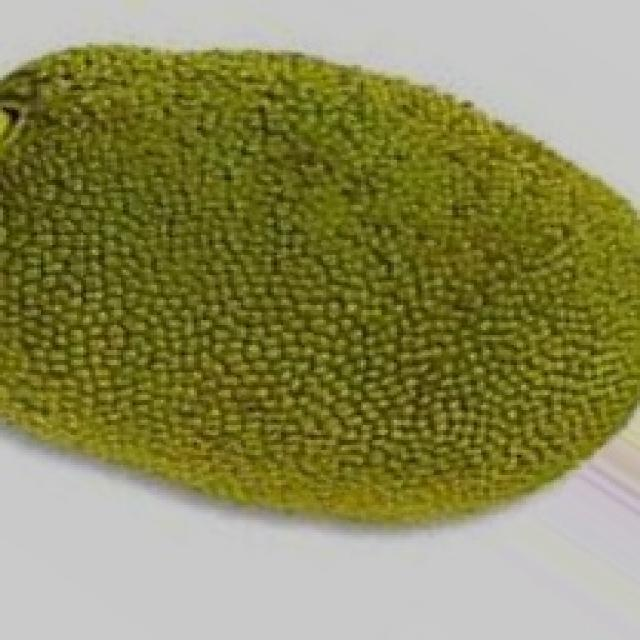Fruit: (264, 30, 640, 410)
